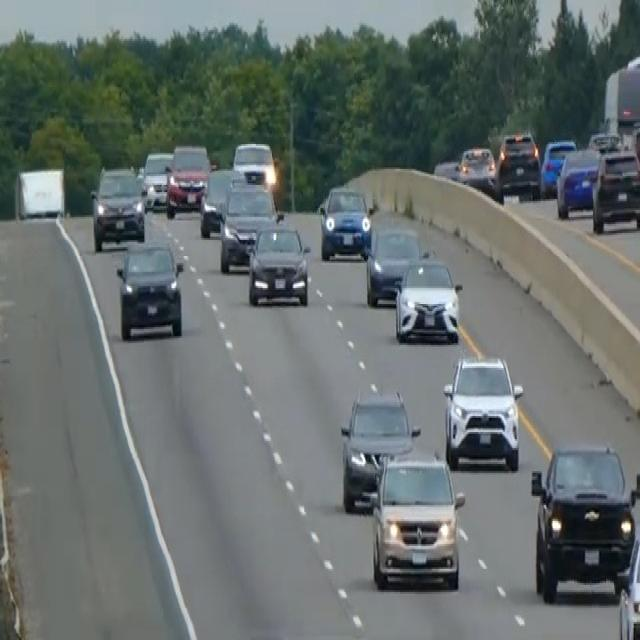car: (530, 439, 638, 603), (339, 388, 420, 512), (442, 352, 524, 471), (115, 238, 184, 342), (394, 254, 463, 343), (218, 178, 280, 272), (246, 220, 311, 308), (364, 212, 422, 306), (89, 162, 146, 250), (591, 146, 639, 233), (318, 183, 371, 260), (555, 144, 602, 219), (198, 166, 245, 238), (165, 142, 210, 217), (496, 128, 541, 201), (617, 528, 639, 638), (232, 139, 277, 190), (455, 142, 497, 194), (540, 137, 576, 195), (140, 149, 173, 210)
lorry: (601, 57, 639, 151), (14, 164, 66, 222)
minivan: (366, 446, 466, 592)
